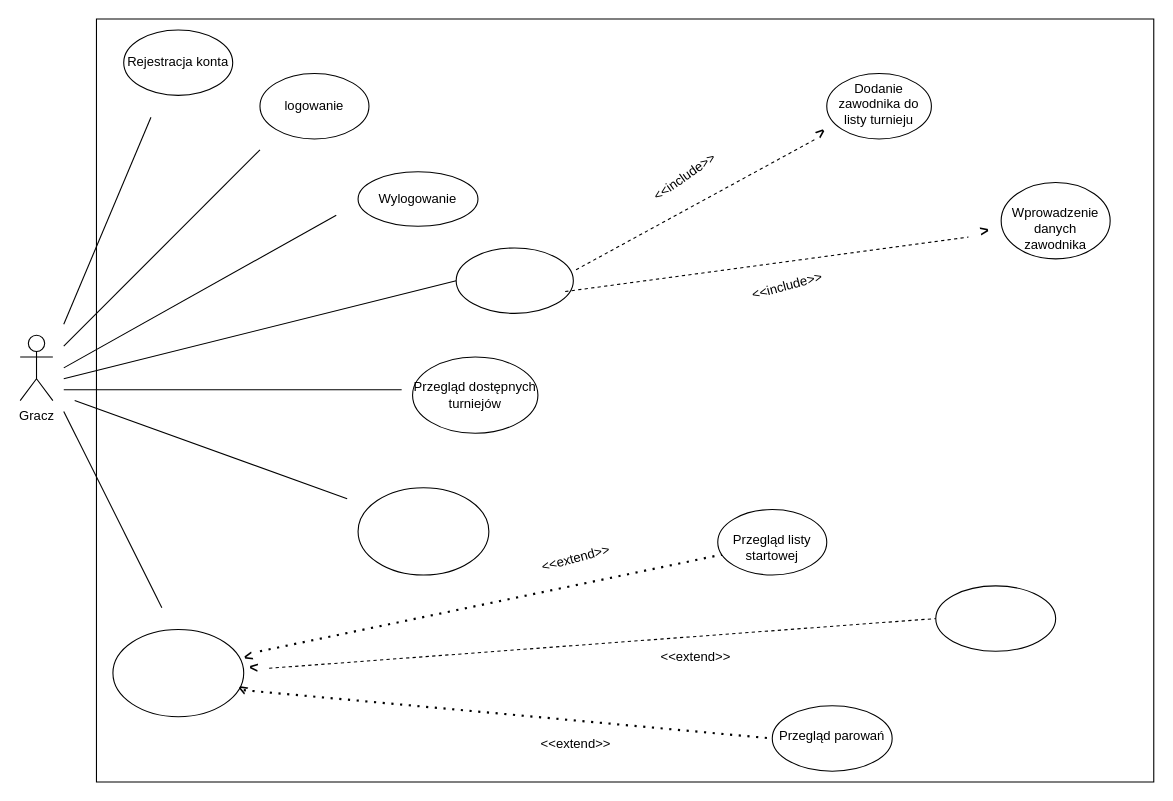
This 1173x801 diagram has some shape labels left out. Here are the shapes that lost their labels. From the top down, the box of each, then its label:
(455, 247, 573, 313): Zapis na turniej
(357, 487, 489, 575): Rezygnacja z turnieju
(935, 585, 1056, 651): Przegląd wyników
(112, 628, 244, 717): Wyświetlanie szczegółów turnieju
